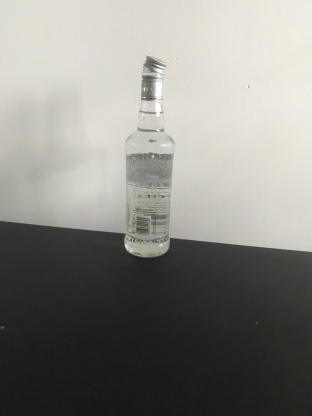nakretka: (139, 53, 167, 101)
